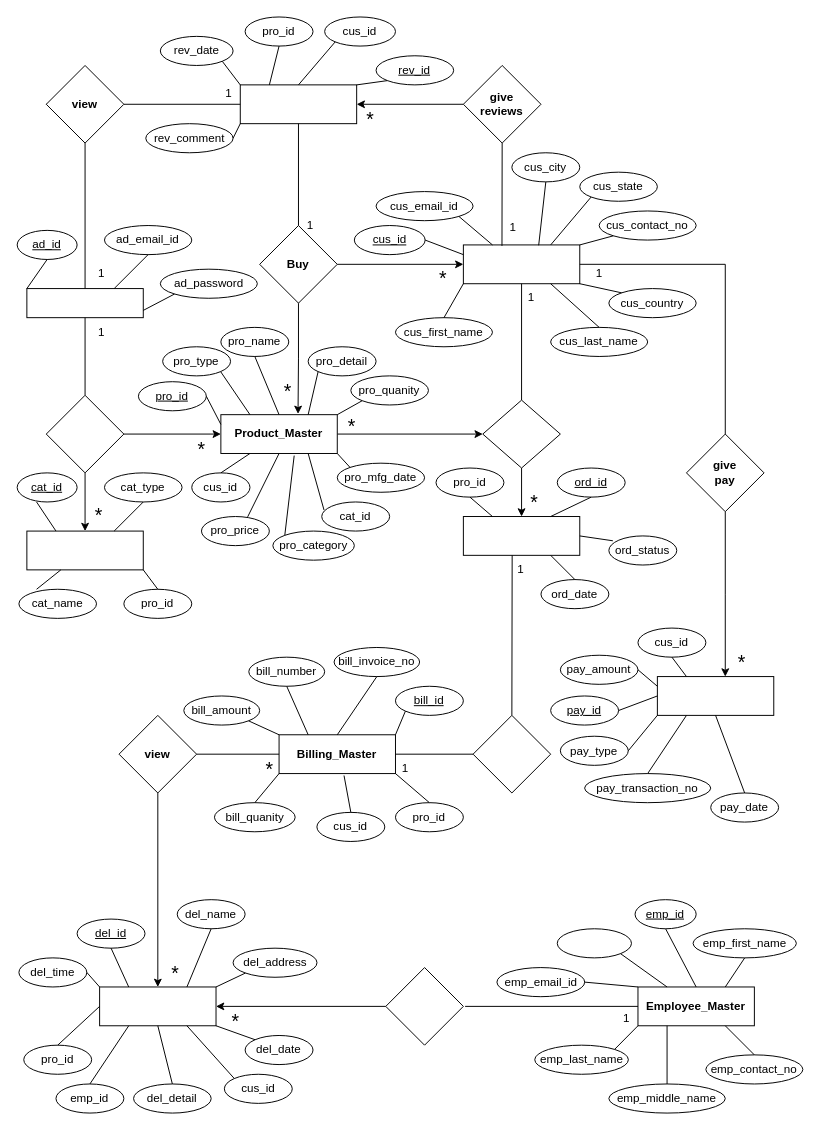
This 820x1130 diagram has some shape labels left out. The shapes that lost their labels are listed below. From the top down, each one's centre as x and y in pixels, then its label:
point 298,104: Review_Master
point 521,264: Customer_Master
point 84,303: Admin_Master
point 84,433: Manage
point 521,433: give order
point 84,550: Category_Master
point 521,535: Order_Master
point 715,695: Payment_Master
point 511,753: take bill
point 593,943: emp_city
point 157,1006: Delivery_Master
point 424,1006: has
